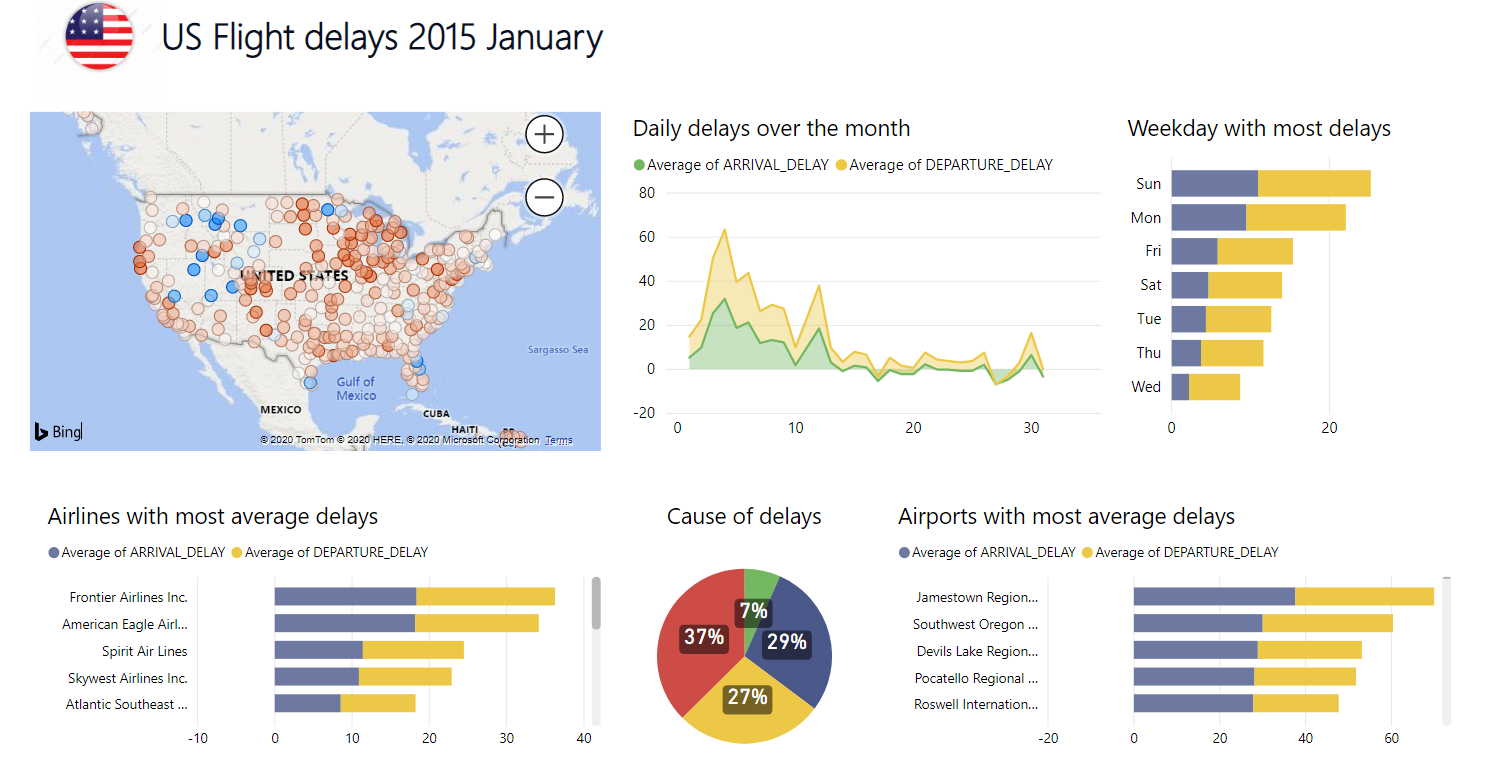

What the dashboard file says about the page in this screenshot:
{"tool":"powerbi","page":{"name":"Page 1","canvas":[1280,720],"ordinal":0},"visuals":[{"type":"map","title":"US airports with most arrival delay on average","fields":{"Y":["airports.LATITUDE"],"X":["airports.LONGITUDE"]},"box":[1.6,120.8,516.6,311.5],"z":0},{"type":"barChart","title":"Weekday with most delays","fields":{"Category":["flights_processedJan.WEEKDAY"],"Y":["Avg(flights_processedJan.ARRIVAL_DELAY)","Avg(flights_processedJan.DEPARTURE_DELAY)"]},"box":[974.3,125.6,267,300.4],"z":2000},{"type":"barChart","title":"Airlines with most average delays","fields":{"Category":["airlines.AIRLINE"],"Y":["Avg(flights_processedJan.ARRIVAL_DELAY)","Avg(flights_processedJan.DEPARTURE_DELAY)"]},"box":[17.5,470.5,500.7,230.5],"z":3000},{"type":"barChart","title":"Airports with most average delays","fields":{"Category":["airports.AIRPORT"],"Y":["Avg(flights_processedJan.ARRIVAL_DELAY)","Avg(flights_processedJan.DEPARTURE_DELAY)"]},"box":[770.9,470.5,500.7,230.5],"z":4000},{"type":"pieChart","title":"Cause of delays","fields":{"Y":["Count(flights_processedJan.SECURITY_DELAY)","Count(flights_processedJan.AIR_SYSTEM_DELAY)","Count(flights_processedJan.WEATHER_DELAY)","Count(flights_processedJan.LATE_AIRCRAFT_DELAY)"]},"box":[486.4,470.5,306.8,249.5],"z":5000},{"type":"stackedAreaChart","title":"Daily delays over the month","fields":{"Category":["flights_processedJan.DAY"],"Y":["Avg(flights_processedJan.ARRIVAL_DELAY)","Avg(flights_processedJan.DEPARTURE_DELAY)"]},"box":[535.6,125.6,426,300.4],"z":6000},{"type":"textbox","box":[117.6,30.2,418,60.4],"z":7000},{"type":"image","box":[0,0,136.7,119.2],"z":8000}]}

Visuals, with their boxes on the page's 1280x720 design canvas (x1, y1, x2, y2). These are canvas units, not pixel positions in the 1501x767 screenshot, which may show the page scaled, cropped or inside an application window:
"US airports with most arrival delay on average" map: (left=2, top=121, right=518, bottom=432)
"Weekday with most delays" barChart: (left=974, top=126, right=1241, bottom=426)
"Airlines with most average delays" barChart: (left=18, top=470, right=518, bottom=701)
"Airports with most average delays" barChart: (left=771, top=470, right=1272, bottom=701)
"Cause of delays" pieChart: (left=486, top=470, right=793, bottom=720)
"Daily delays over the month" stackedAreaChart: (left=536, top=126, right=962, bottom=426)
textbox: (left=118, top=30, right=536, bottom=91)
image: (left=0, top=0, right=137, bottom=119)
